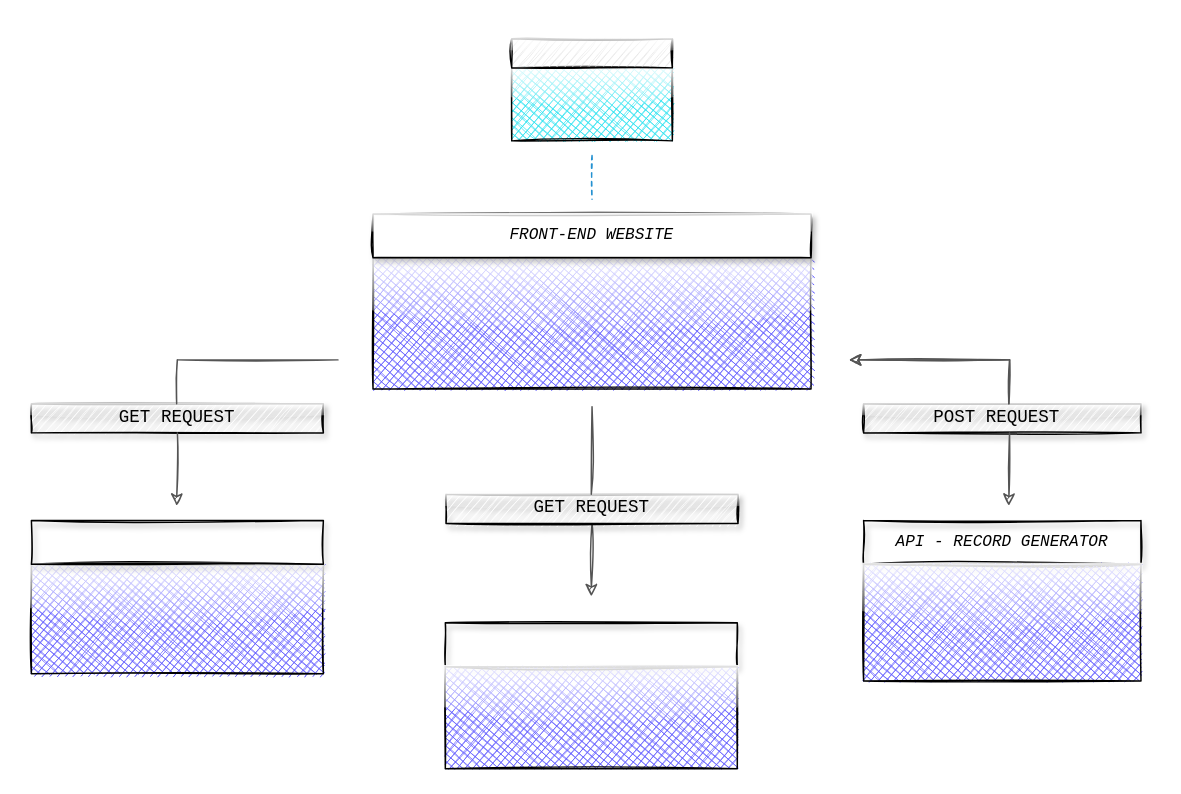
Image size: 1181x794. Some labels were removed from this diagram. The centre of each missing label's shape, as x and y in pixels:
"API - FIGHT NAME GENERATOR" belongs at (x=178, y=544).
"API - MARTIAL ART GENERATOR" belongs at (x=592, y=646).
"DATABASE" belongs at (x=591, y=52).
